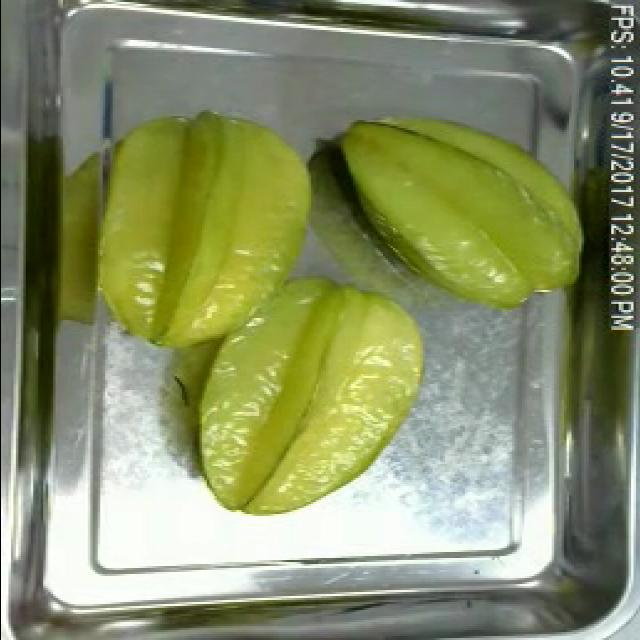fruit: (74, 96, 334, 364), (188, 254, 434, 526), (328, 100, 596, 320)
